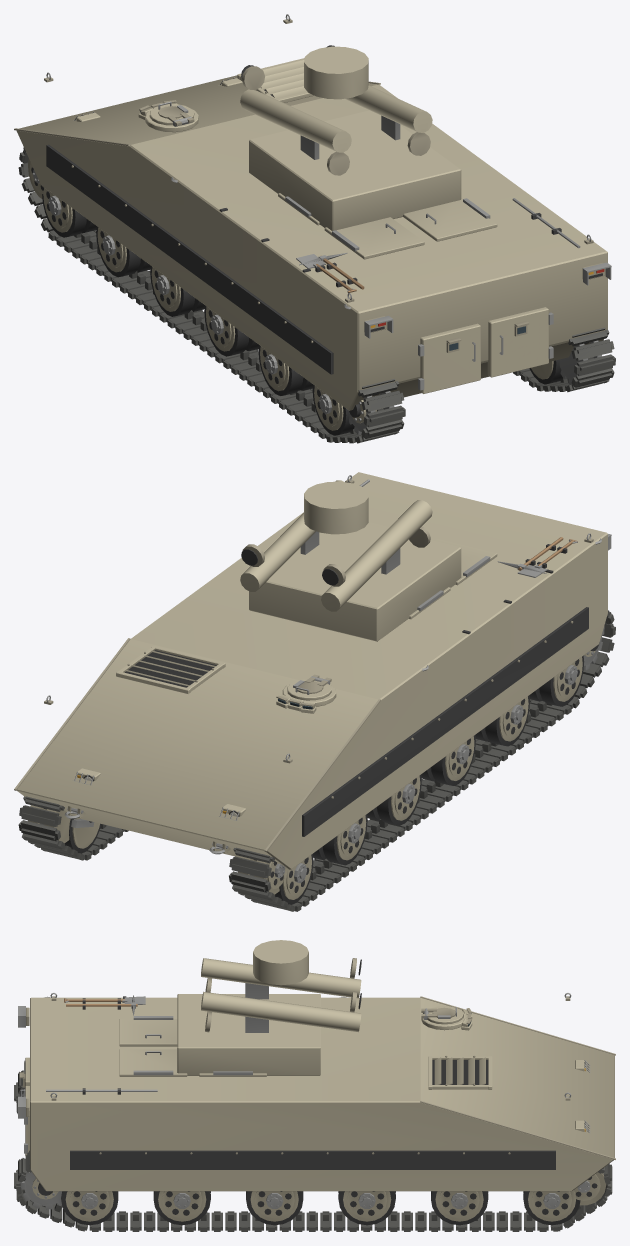
File: rus_td_khriz.glb
The picture shows the model from 3 angles, top to bottom: view 1: azimuth 30°, elevation 25°; view 2: azimuth 150°, elevation 25°; view 3: azimuth 270°, elevation 25°; orthographic projection. The views are drawn at different scales.
Visible parts, largest first — view 1: body, turret, barrel; view 2: body, turret, barrel; view 3: body, barrel, turret.
Part boxes in pixels (x1,y1,x2,y2): body: (14, 14, 615, 443); turret: (249, 110, 461, 230); barrel: (240, 45, 432, 175); body: (14, 472, 615, 911); turret: (249, 524, 461, 641); barrel: (240, 480, 432, 611); body: (14, 993, 615, 1231); barrel: (201, 940, 361, 1032); turret: (177, 994, 320, 1075).
Size of the model in its own units: 3.23 by 3.16 by 7.55.
